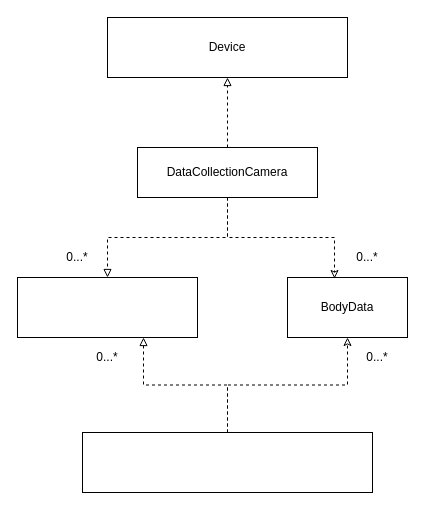
This 425x510 diagram has some shape labels left out. Here are the shapes that lost their labels. From the top down, the box of each, then its label:
(16, 276, 198, 338): Image
(82, 432, 372, 492): DataCollectionViewModel
